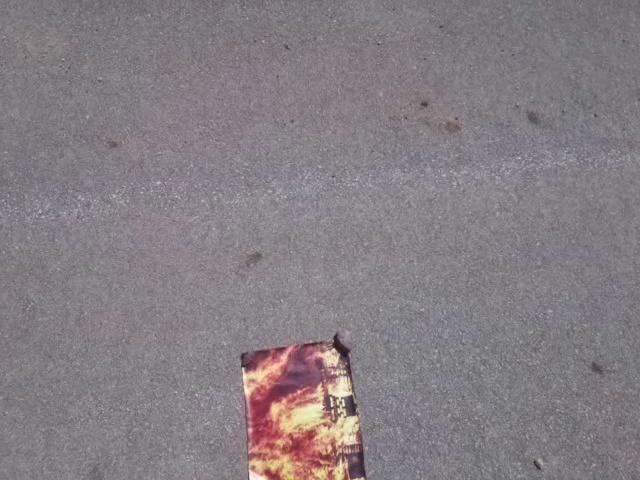fire-poster: (238, 329, 370, 479)
